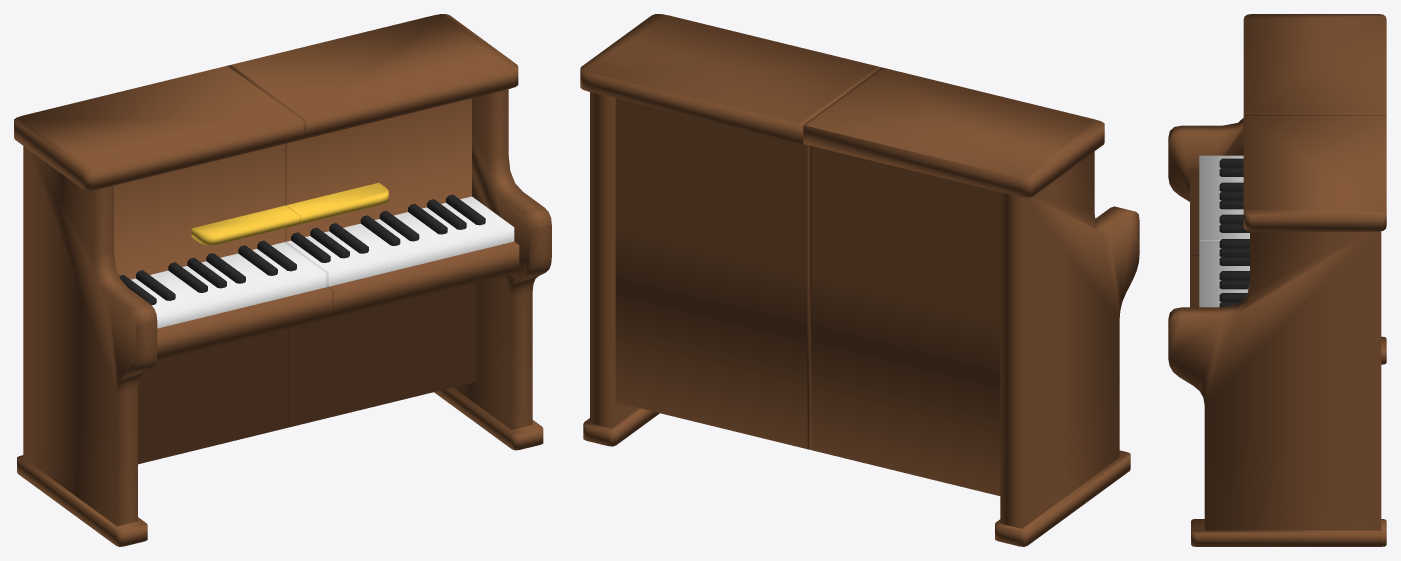
File: SM_Piano_01a.fbx
The picture shows the model from 3 angles, left to right: view 1: azimuth 30°, elevation 25°; view 2: azimuth 150°, elevation 25°; view 3: azimuth 270°, elevation 25°; orthographic projection. The views are drawn at different scales.
Visible parts, largest first — view 1: Piano_02, Piano_01; view 2: Piano_02, Piano_01; view 3: Piano_01, Piano_02.
Part boxes in pixels (bbox=[...]): Piano_02: bbox=[14, 65, 332, 546]; Piano_01: bbox=[228, 14, 551, 450]; Piano_02: bbox=[803, 67, 1139, 546]; Piano_01: bbox=[580, 14, 881, 449]; Piano_01: bbox=[1168, 114, 1386, 546]; Piano_02: bbox=[1168, 14, 1386, 364].
Bounding box in the file's own units: 35.47 × 27.61 × 16.35.
